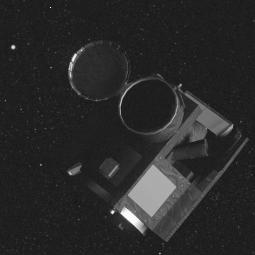cheops: (59, 44, 240, 247)
